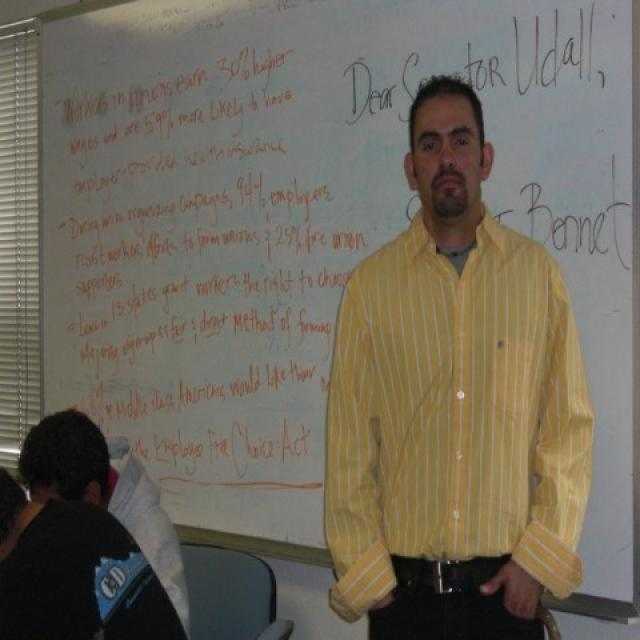Instructor: (327, 71, 582, 627)
White-board: (36, 6, 632, 617)
